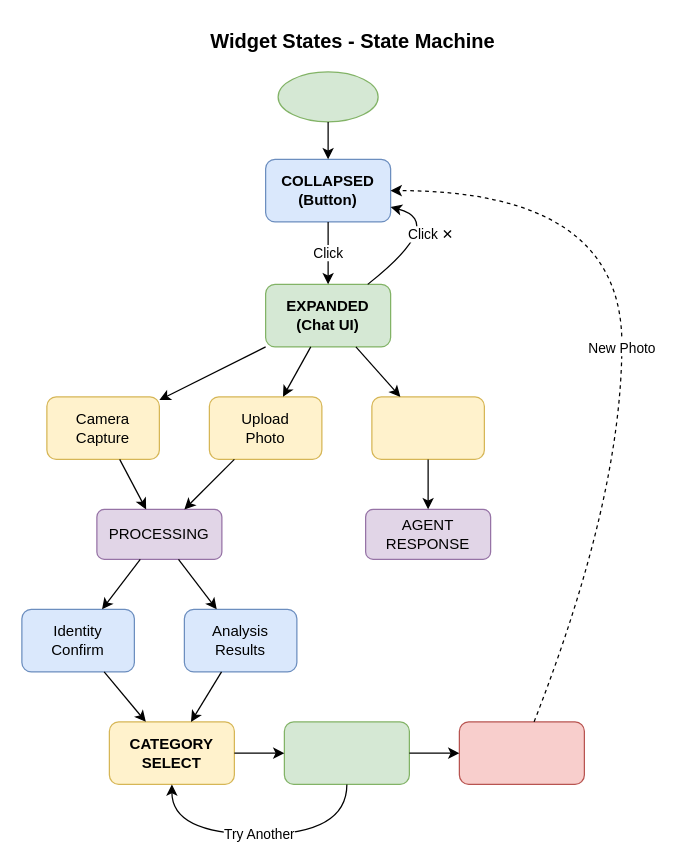
This 678x864 diagram has some shape labels left out. The centre of each missing label's shape, as x and y in pixels:
CHECKOUT: [521,752]
Page Load: [327,96]
PRODUCT MATCHES: [346,752]
Text Chat: [427,427]
